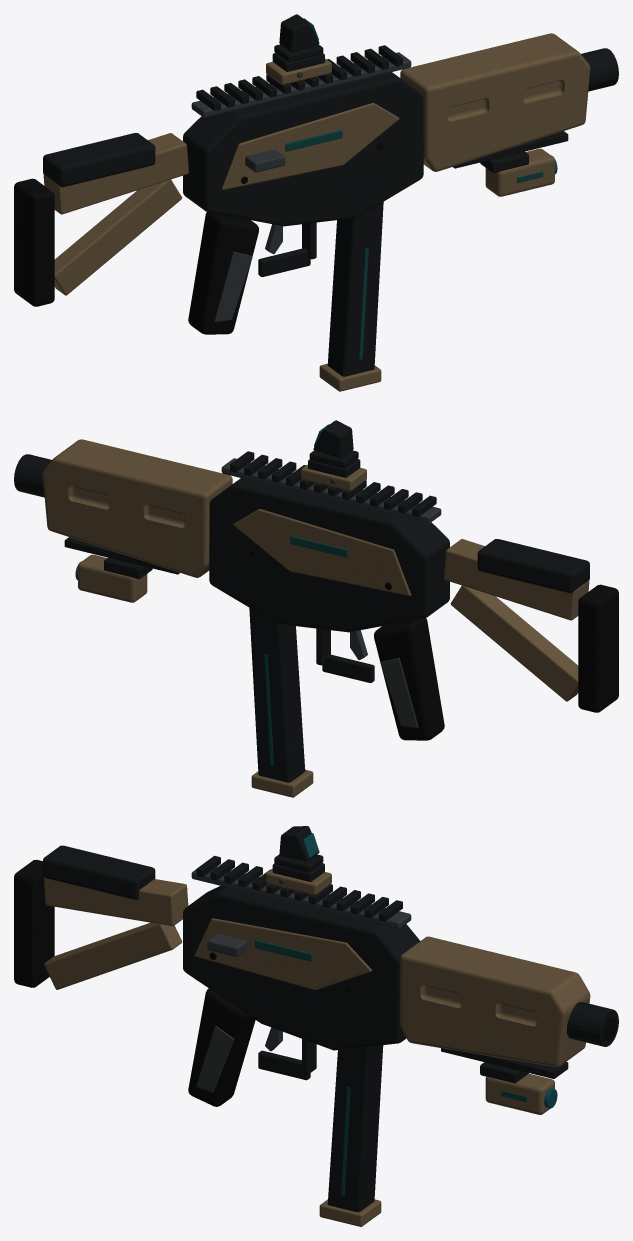
Rendered from wisp02.compact_optic.glb.
The picture shows the model from 3 angles, top to bottom: view 1: azimuth 30°, elevation 25°; view 2: azimuth 150°, elevation 25°; view 3: azimuth 330°, elevation 25°; orthographic projection.
Visible parts, largest first — view 1: wisp02.compact_optic__root, wisp02.compact_optic__handguard.standard, wisp02.compact_optic__stock.standard, wisp02.compact_optic__magazine, wisp02.compact_optic__grip, wisp02.compact_optic__light, wisp02.compact_optic__sight, wisp02.compact_optic__adapter, wisp02.compact_optic__muzzle, wisp02.compact_optic__charging_handle; view 2: wisp02.compact_optic__root, wisp02.compact_optic__handguard.standard, wisp02.compact_optic__stock.standard, wisp02.compact_optic__magazine, wisp02.compact_optic__grip, wisp02.compact_optic__light, wisp02.compact_optic__sight, wisp02.compact_optic__adapter, wisp02.compact_optic__muzzle; view 3: wisp02.compact_optic__root, wisp02.compact_optic__handguard.standard, wisp02.compact_optic__stock.standard, wisp02.compact_optic__magazine, wisp02.compact_optic__grip, wisp02.compact_optic__light, wisp02.compact_optic__muzzle, wisp02.compact_optic__sight, wisp02.compact_optic__adapter, wisp02.compact_optic__charging_handle.
Part boxes in pixels (left/top/right/bottom): wisp02.compact_optic__root: left=183, top=45, right=423, bottom=276; wisp02.compact_optic__handguard.standard: left=400, top=33, right=590, bottom=171; wisp02.compact_optic__stock.standard: left=14, top=133, right=188, bottom=306; wisp02.compact_optic__magazine: left=319, top=202, right=383, bottom=391; wisp02.compact_optic__grip: left=188, top=212, right=258, bottom=334; wisp02.compact_optic__light: left=480, top=148, right=557, bottom=196; wisp02.compact_optic__sight: left=274, top=14, right=323, bottom=62; wisp02.compact_optic__adapter: left=266, top=53, right=331, bottom=84; wisp02.compact_optic__muzzle: left=581, top=48, right=618, bottom=91; wisp02.compact_optic__charging_handle: left=245, top=149, right=285, bottom=172; wisp02.compact_optic__root: left=209, top=451, right=449, bottom=682; wisp02.compact_optic__handguard.standard: left=42, top=439, right=232, bottom=577; wisp02.compact_optic__stock.standard: left=444, top=539, right=618, bottom=712; wisp02.compact_optic__magazine: left=249, top=608, right=313, bottom=797; wisp02.compact_optic__grip: left=374, top=618, right=444, bottom=740; wisp02.compact_optic__light: left=75, top=554, right=152, bottom=602; wisp02.compact_optic__sight: left=309, top=420, right=358, bottom=468; wisp02.compact_optic__adapter: left=301, top=459, right=366, bottom=490; wisp02.compact_optic__muzzle: left=14, top=454, right=51, bottom=497; wisp02.compact_optic__root: left=183, top=855, right=419, bottom=1080; wisp02.compact_optic__handguard.standard: left=400, top=936, right=590, bottom=1078; wisp02.compact_optic__stock.standard: left=14, top=845, right=188, bottom=989; wisp02.compact_optic__magazine: left=319, top=1045, right=383, bottom=1226; wisp02.compact_optic__grip: left=188, top=988, right=255, bottom=1106; wisp02.compact_optic__light: left=480, top=1062, right=557, bottom=1114; wisp02.compact_optic__muzzle: left=567, top=1002, right=618, bottom=1046; wisp02.compact_optic__sight: left=274, top=826, right=323, bottom=872; wisp02.compact_optic__adapter: left=266, top=863, right=331, bottom=894; wisp02.compact_optic__charging_handle: left=207, top=933, right=247, bottom=956.
Bounding box in the file's own units: 0.6715 × 0.4075 × 0.08.
6 materials, 6 textured.
